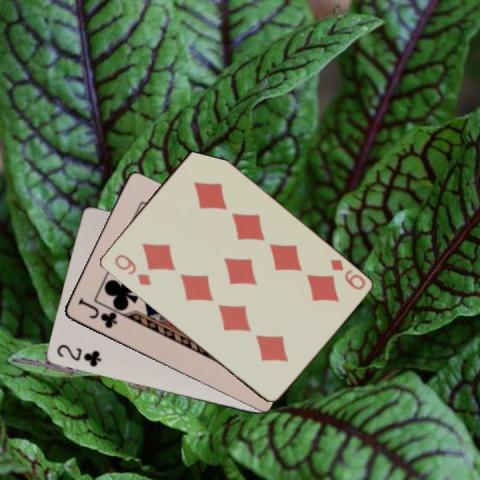2c: (53, 341, 103, 369)
9d: (110, 252, 153, 287), (327, 256, 366, 292)
Jc: (74, 296, 118, 330)
